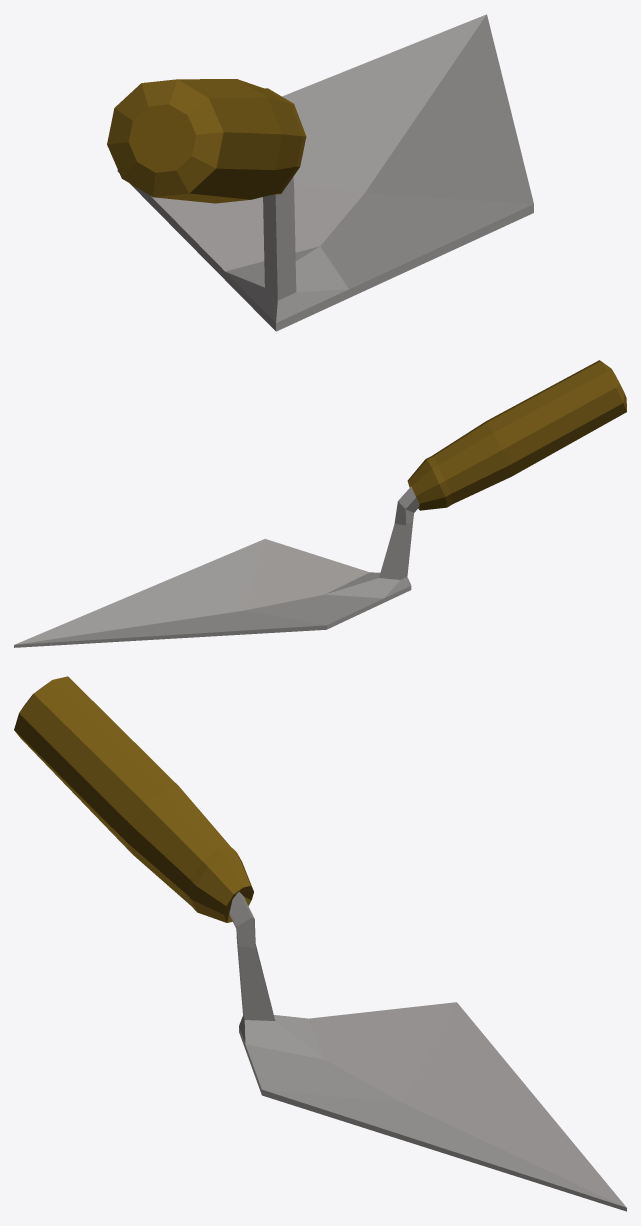
The model's file is Trowel_low.fbx.
3 views of the same model, one above another, from view 1: azimuth 30°, elevation 25°; view 2: azimuth 150°, elevation 25°; view 3: azimuth 270°, elevation 25° (orthographic). The views are drawn at different scales.
Visible parts, largest first — view 1: TrowelHandle; view 2: TrowelHandle; view 3: TrowelHandle.
Boxes of the visible parts, x1=… form: TrowelHandle: x1=107, y1=14, x2=533, y2=331; TrowelHandle: x1=14, y1=360, x2=626, y2=647; TrowelHandle: x1=14, y1=676, x2=626, y2=1211.
Bounding box in the file's own units: 20.61 × 10.8 × 20.6.
